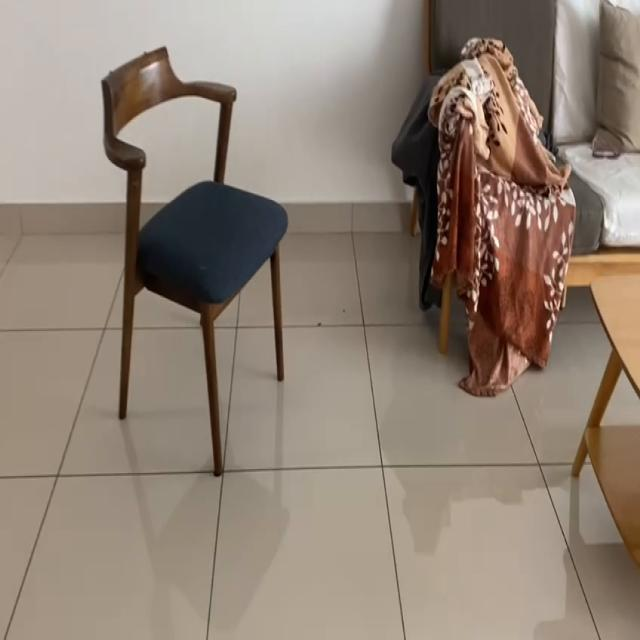Chair: (89, 39, 293, 474)
